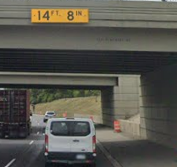1: (35, 8, 41, 22)
4: (41, 9, 51, 21)
8: (64, 8, 75, 22)
overheadsign: (30, 7, 89, 24)
